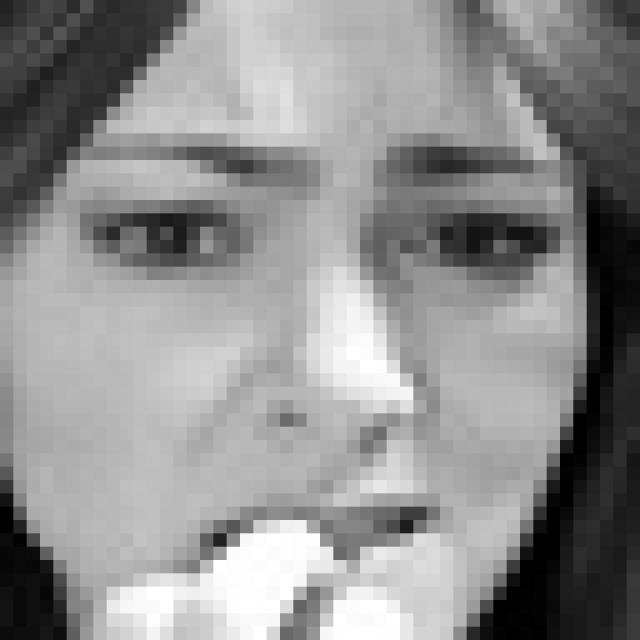fear: (64, 135, 569, 590)
